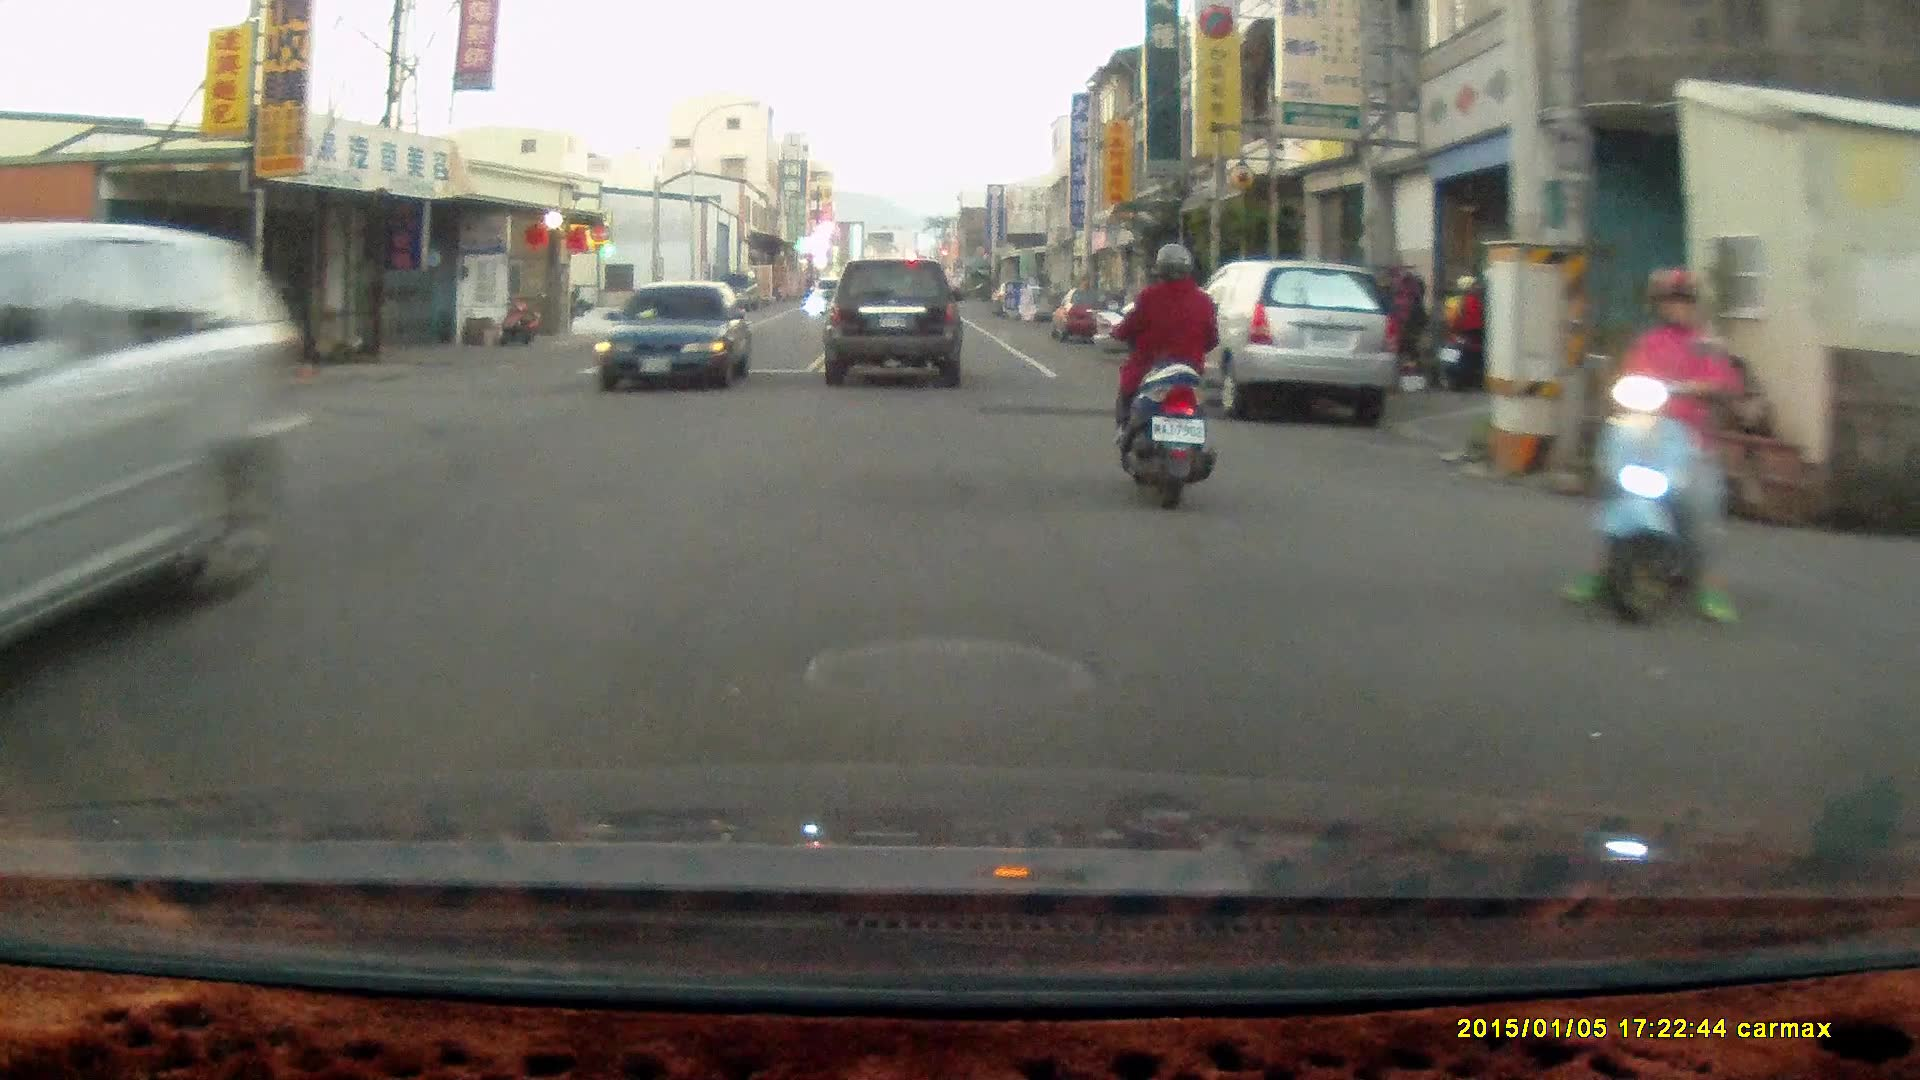rider: (1566, 268, 1752, 635), (1110, 238, 1218, 509), (1441, 267, 1492, 390)
vehicle: (1, 221, 311, 710), (1167, 260, 1397, 424), (824, 258, 966, 392), (599, 279, 754, 396), (1049, 287, 1127, 343)
